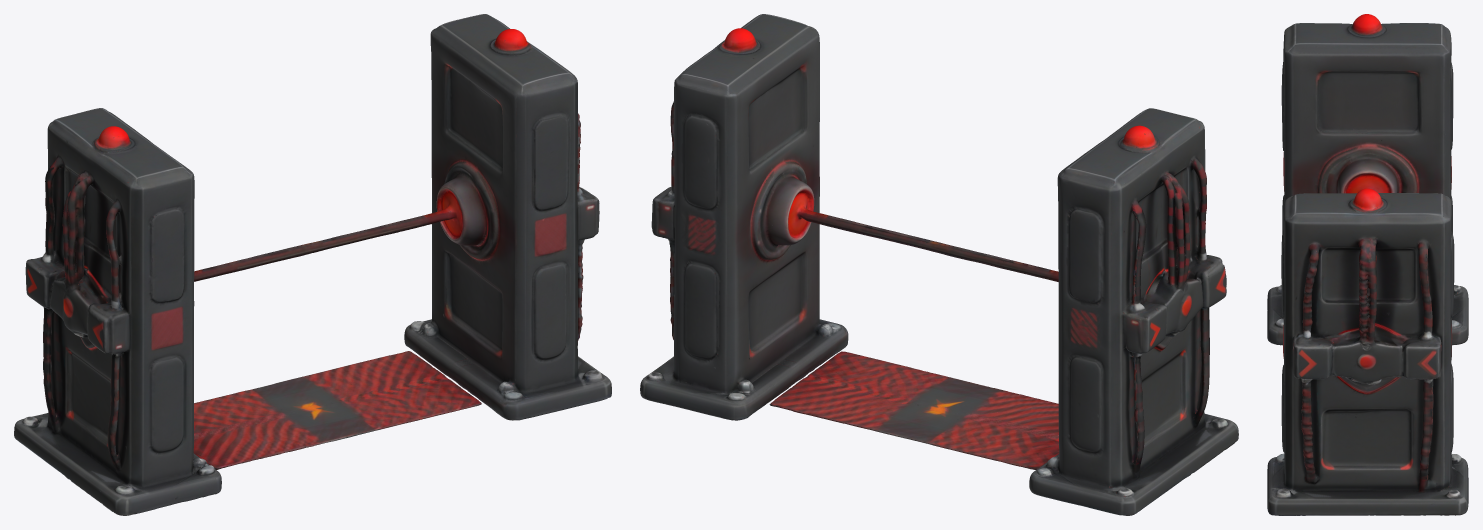
The model's file is RedLaserBeam.glb.
3 renders of one model, left to right at view 1: azimuth 30°, elevation 25°; view 2: azimuth 150°, elevation 25°; view 3: azimuth 270°, elevation 25°, orthographic. The views are drawn at different scales.
Bounding box in the file's own units: 2 × 1.31 × 0.7806.
1 material, 1 textured.
